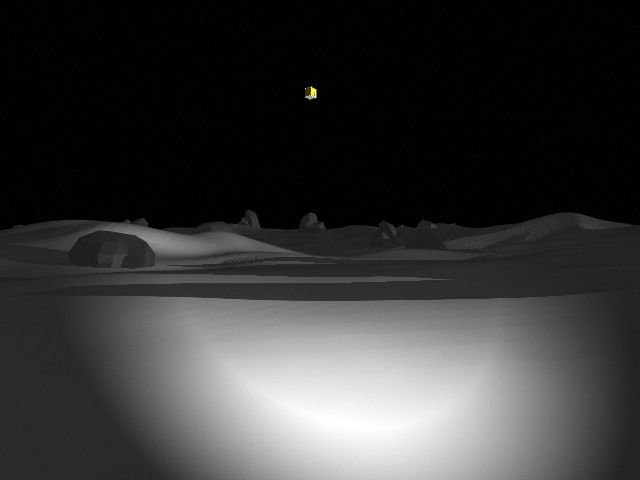cubesat: (301, 84, 319, 102)
